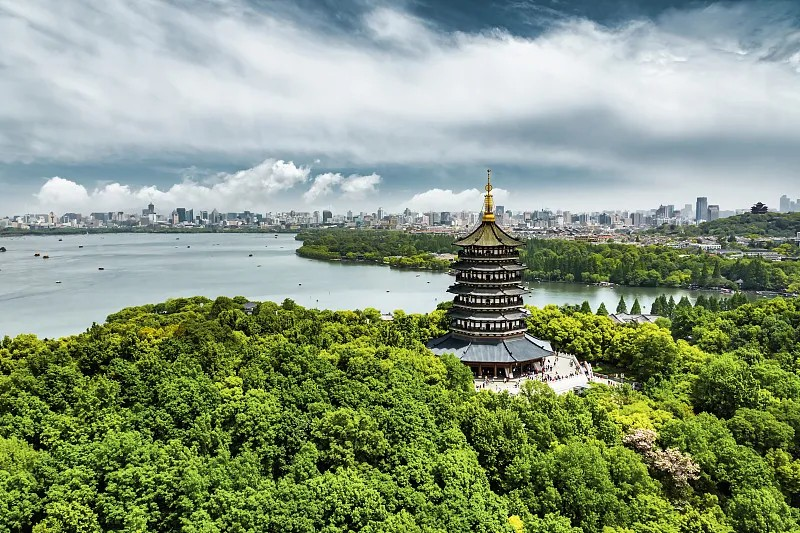Leifeng: (427, 169, 552, 375)
